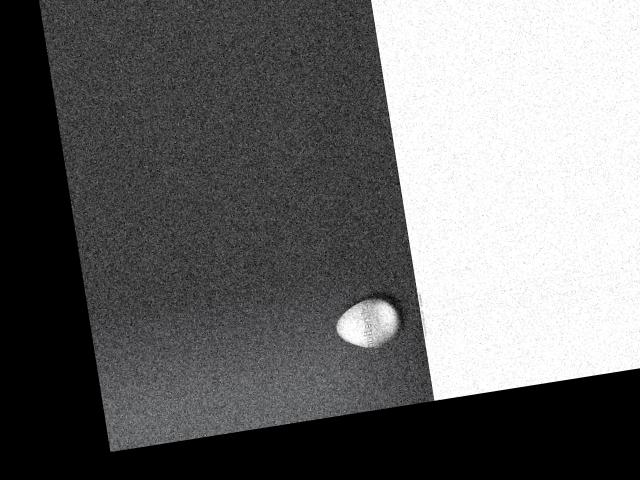egg: (331, 294, 403, 353)
